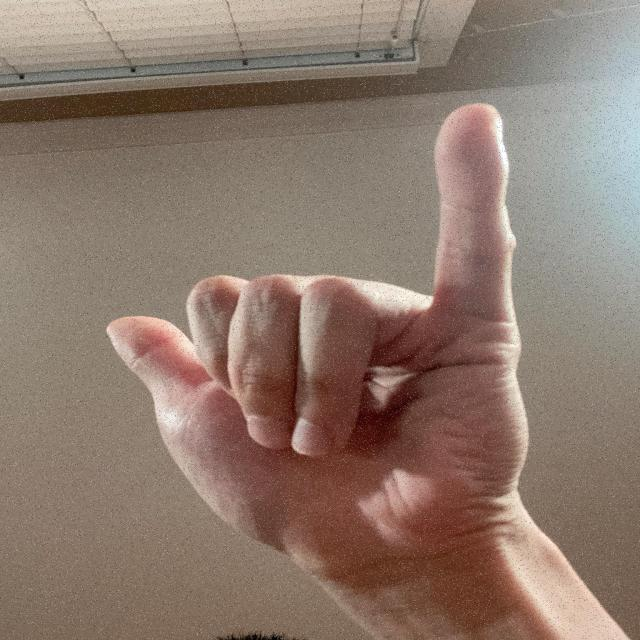Y: (94, 95, 538, 592)
